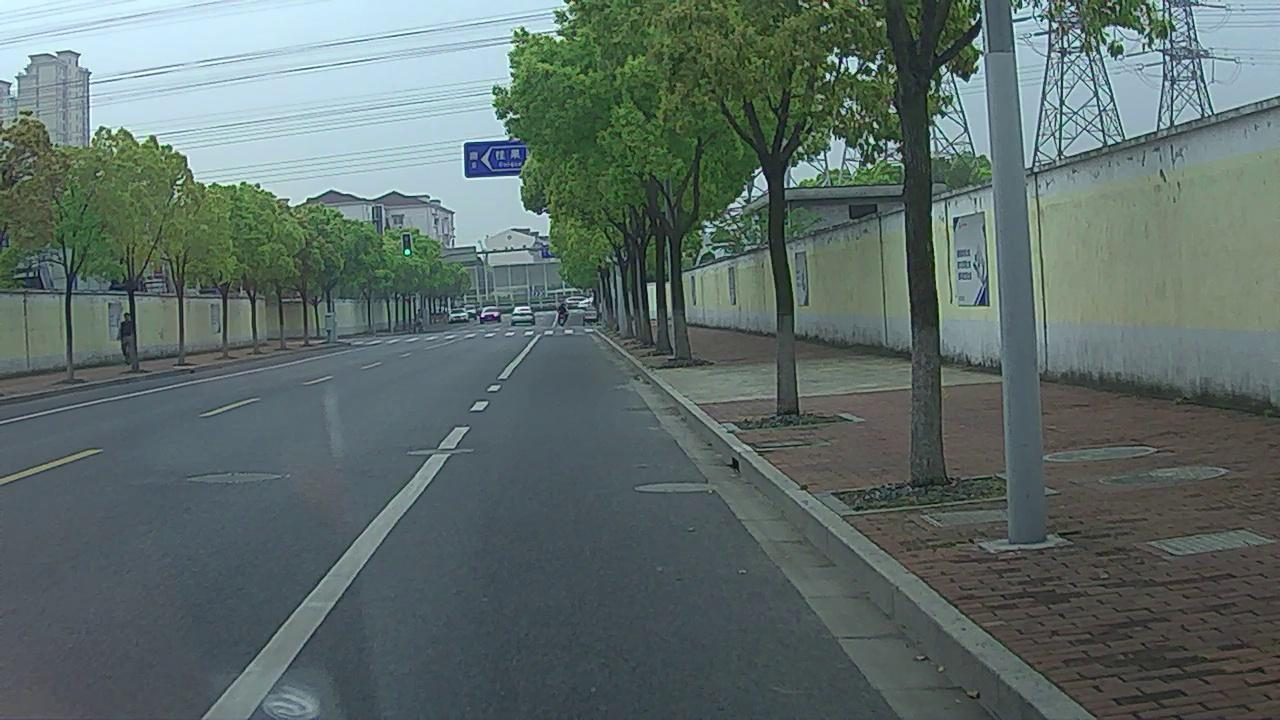traffic_light: (401, 234, 411, 258)
